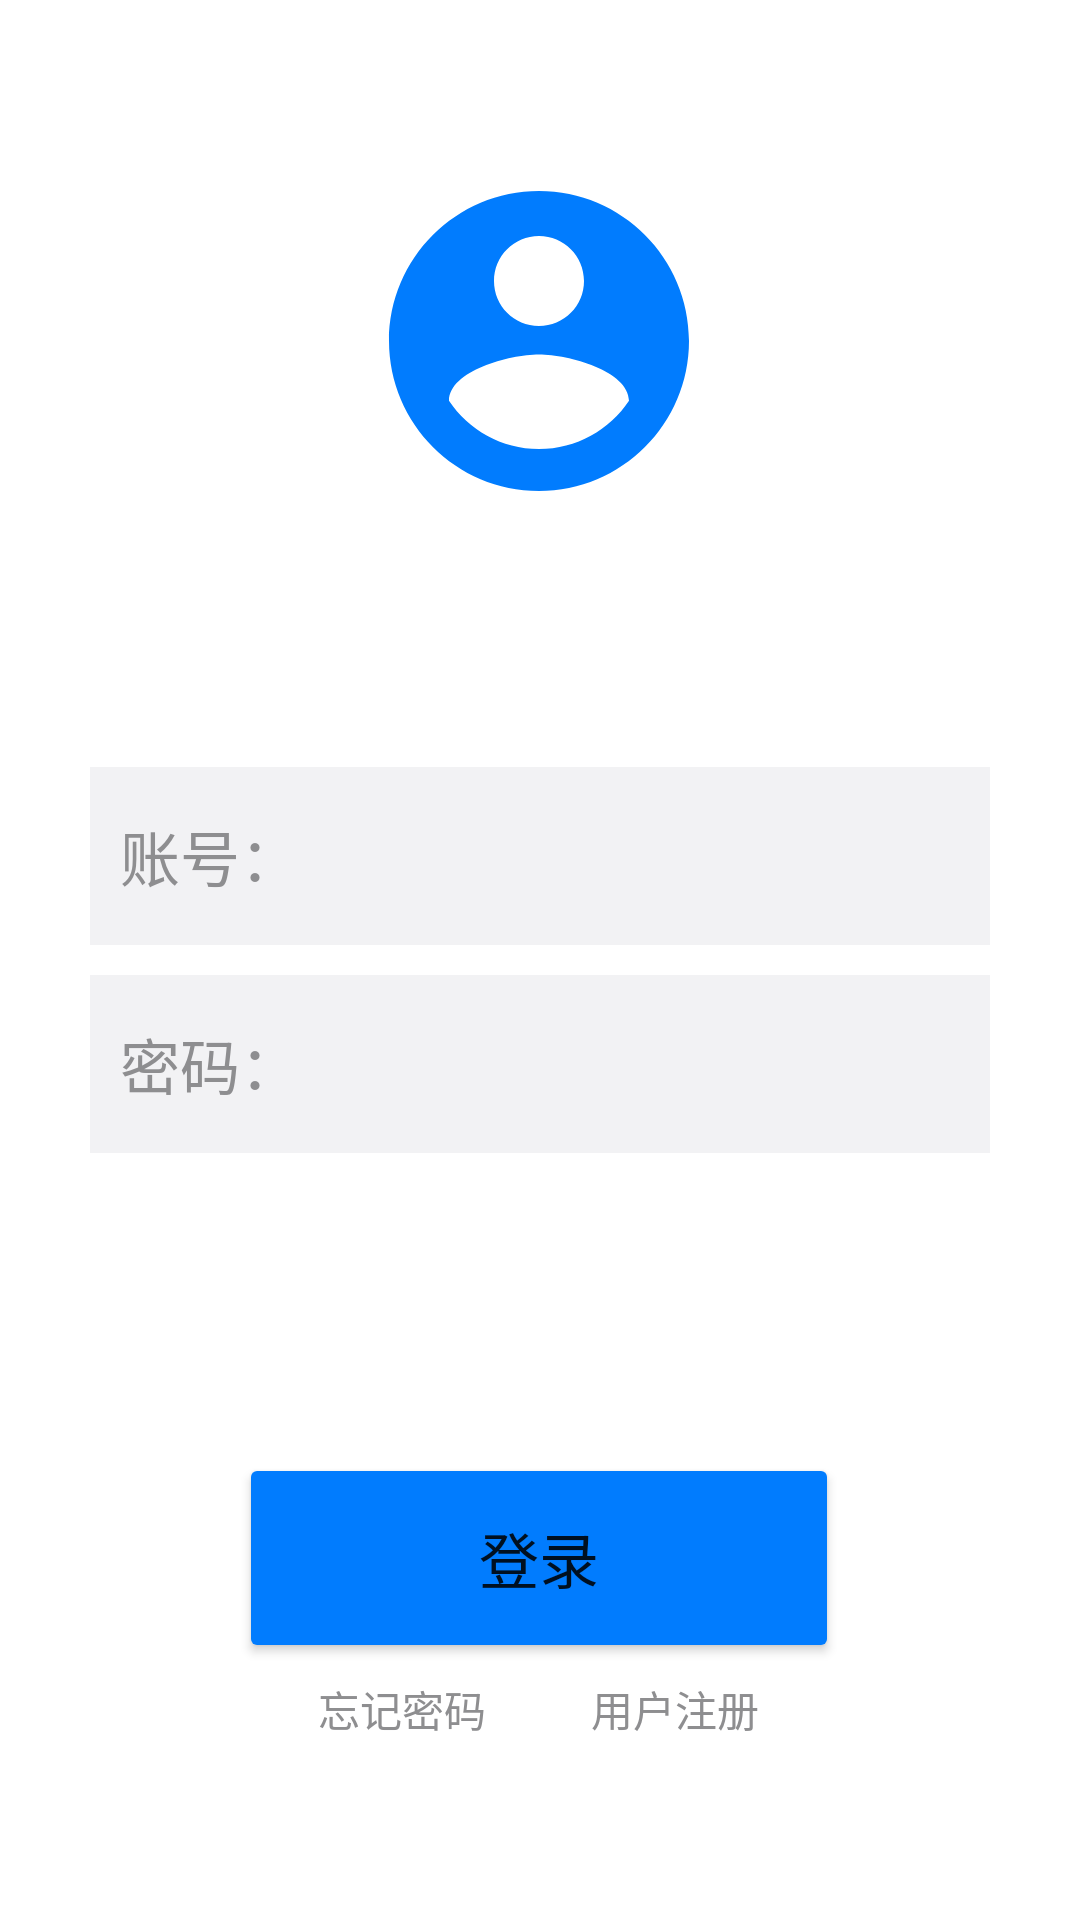

Where icons sit on this 1080 x 1920 app screen, as region(x1, y1, x2, y2):
user: region(389, 191, 689, 491)
